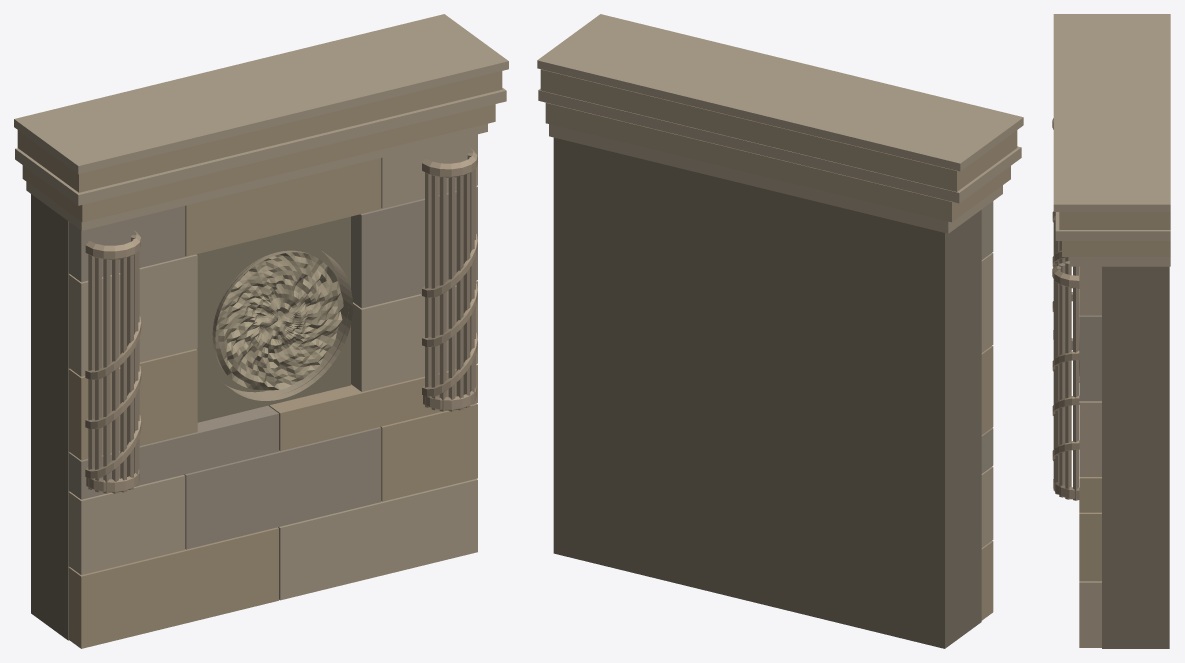
File: jingan-customs-library-stone-roundel-lod.glb
3 views of the same model, side by side, from view 1: azimuth 30°, elevation 25°; view 2: azimuth 150°, elevation 25°; view 3: azimuth 270°, elevation 25° (orthographic). The views are drawn at different scales.
Parts seen in each view (by area): view 1: 江海图书馆海关楼门侧石徽与斜带束柱; view 2: 江海图书馆海关楼门侧石徽与斜带束柱; view 3: 江海图书馆海关楼门侧石徽与斜带束柱.
Part boxes in pixels (x1,y1,x2,y2): 江海图书馆海关楼门侧石徽与斜带束柱: (14, 14, 508, 648); 江海图书馆海关楼门侧石徽与斜带束柱: (537, 14, 1023, 648); 江海图书馆海关楼门侧石徽与斜带束柱: (1052, 14, 1170, 648).
Bounding box in the file's own units: 1.56 × 1.72 × 0.409.
